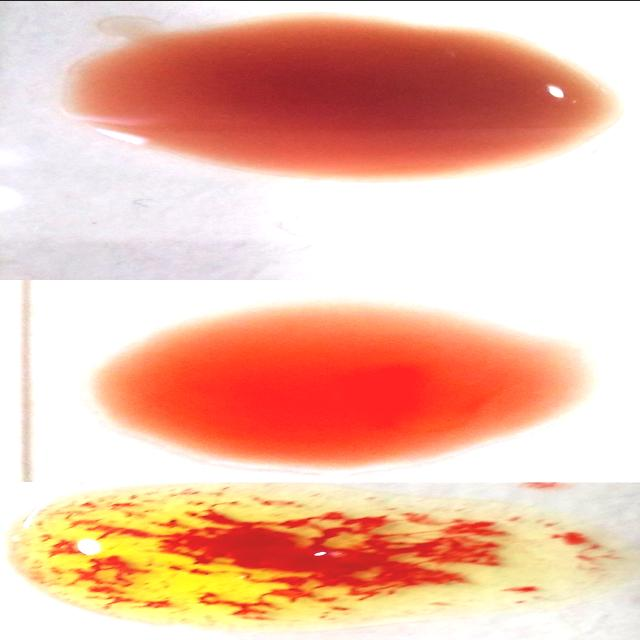B: (14, 488, 614, 630)
